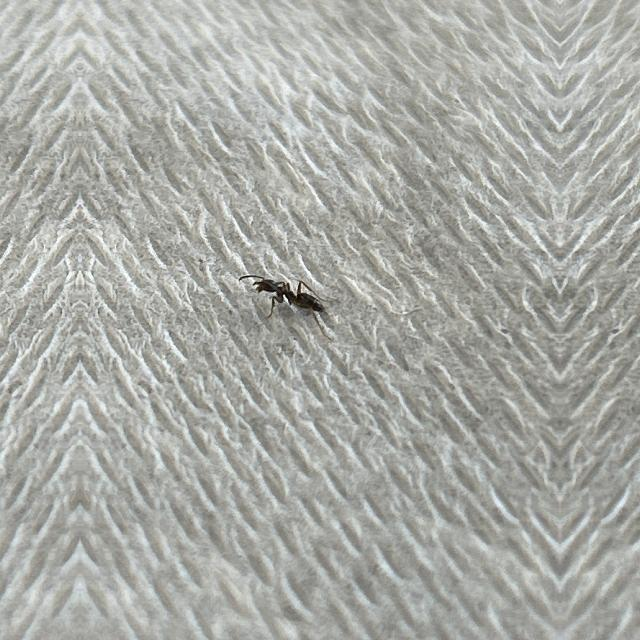Tapinoma: (236, 252, 334, 336)
